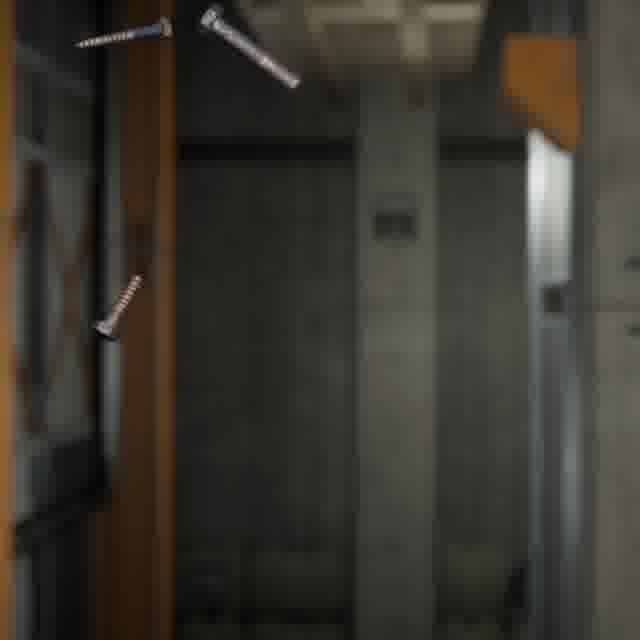bolt: (193, 0, 305, 95), (87, 270, 147, 345), (70, 13, 176, 53)
